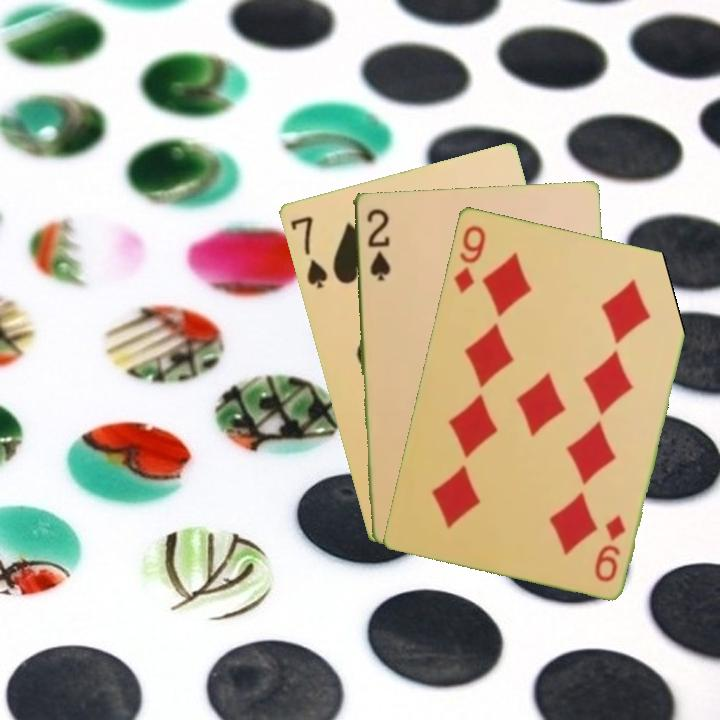2s: (363, 205, 393, 283)
7s: (286, 212, 330, 291)
9d: (449, 221, 488, 296), (590, 510, 628, 585)
